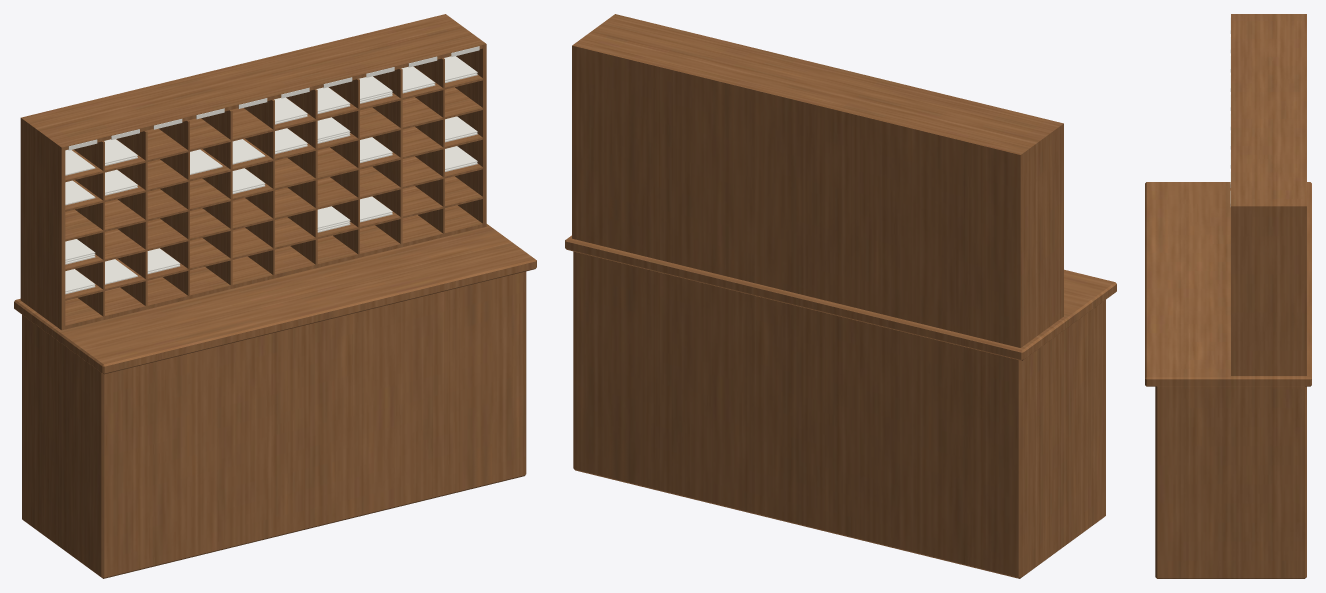
Rendered from estante_triagem.glb.
3 views of the same model, side by side, from view 1: azimuth 30°, elevation 25°; view 2: azimuth 150°, elevation 25°; view 3: azimuth 270°, elevation 25° (orthographic). The views are drawn at different scales.
Visible parts, largest first — view 1: estante_triagem_madeira, estante_triagem_papel; view 2: estante_triagem_madeira; view 3: estante_triagem_madeira.
Boxes of the visible parts, <box> form: estante_triagem_madeira: <box>14,14,536,578</box>; estante_triagem_papel: <box>65,46,479,294</box>; estante_triagem_madeira: <box>565,14,1116,578</box>; estante_triagem_madeira: <box>1145,14,1311,578</box>.
Size of the model in its own units: 1.84 by 1.63 by 0.66.
2 materials, 1 textured.
